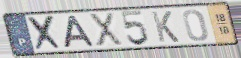0: (182, 8, 210, 42)
5: (119, 9, 151, 47)
A: (63, 15, 97, 50)
K: (149, 10, 182, 43)
X: (26, 14, 65, 52), (87, 12, 125, 48)
